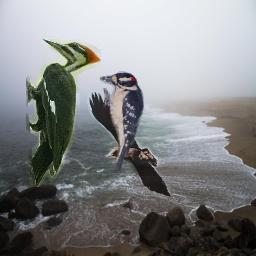Crow: (87, 90, 172, 199)
Woodpecker: (26, 39, 101, 187), (100, 70, 145, 173)
